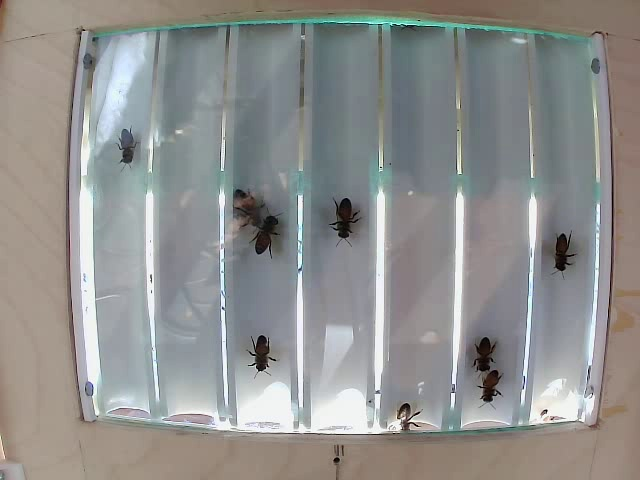bee: (110, 112, 158, 172), (320, 191, 370, 248), (220, 183, 266, 226), (255, 207, 287, 263), (246, 333, 280, 377), (385, 398, 423, 431), (482, 371, 508, 406), (551, 229, 574, 268), (471, 338, 497, 372)
